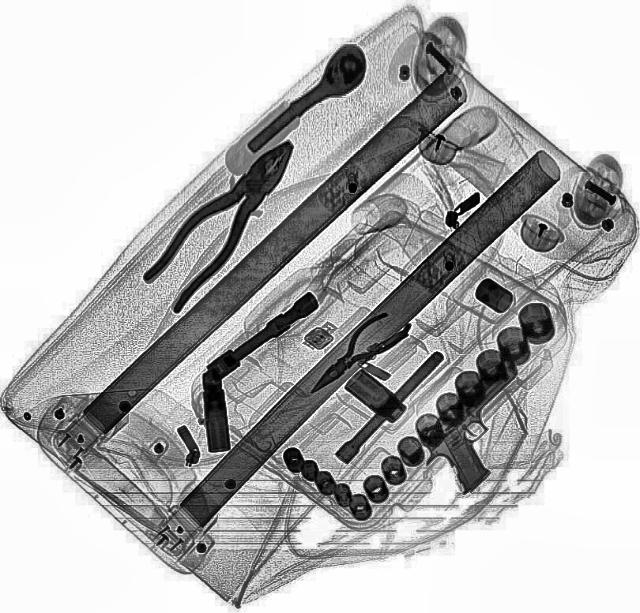Gun: (400, 352, 562, 498)
Pliers: (128, 125, 318, 317), (294, 307, 408, 405)
